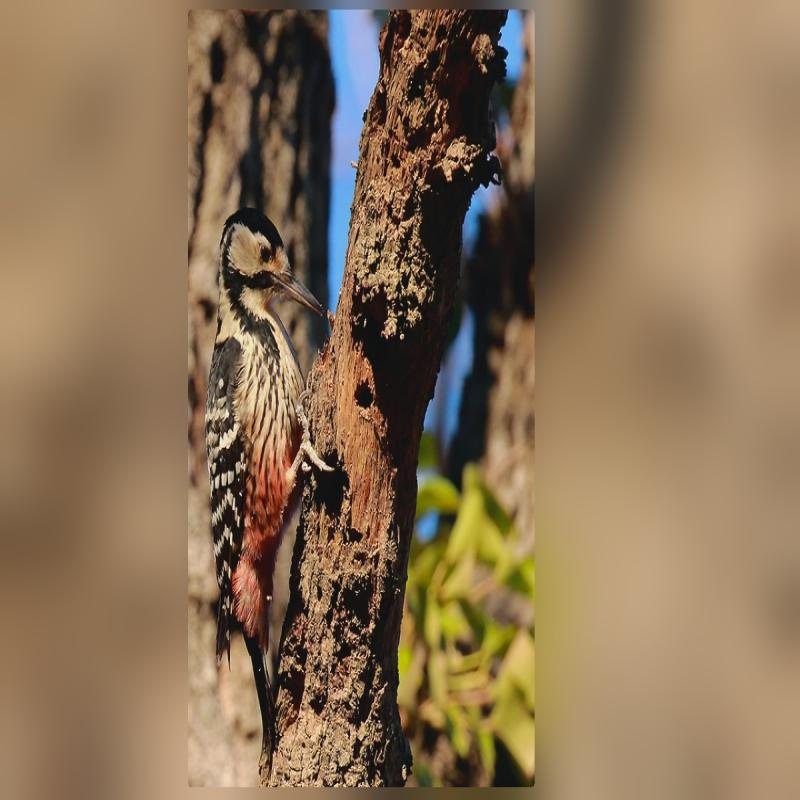white-backed woodpecker: (193, 201, 344, 679)
